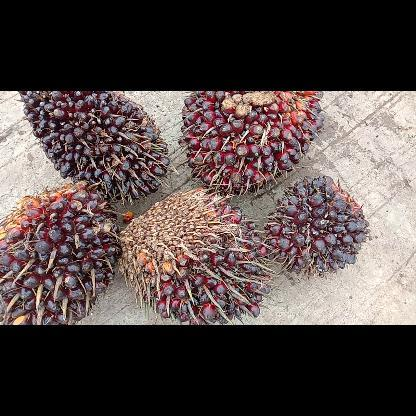TBS mentah: (119, 188, 280, 324), (16, 91, 176, 204), (0, 179, 121, 323), (180, 90, 324, 198), (263, 174, 371, 276)
